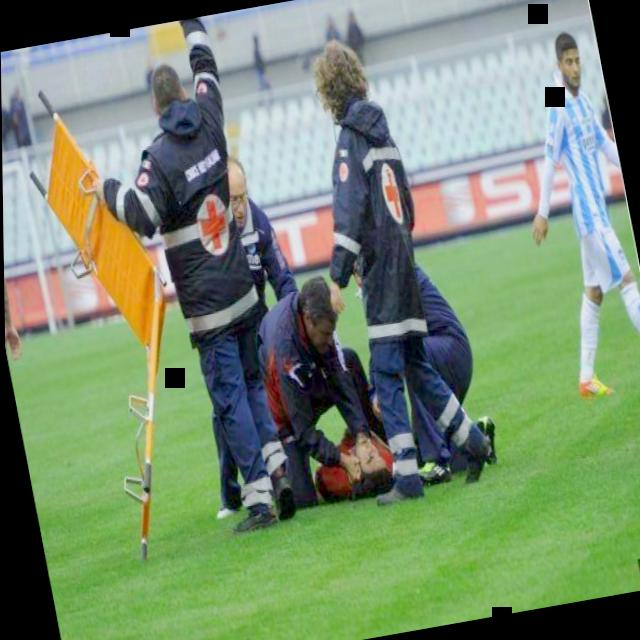Fall-Detected: (295, 400, 412, 512)
